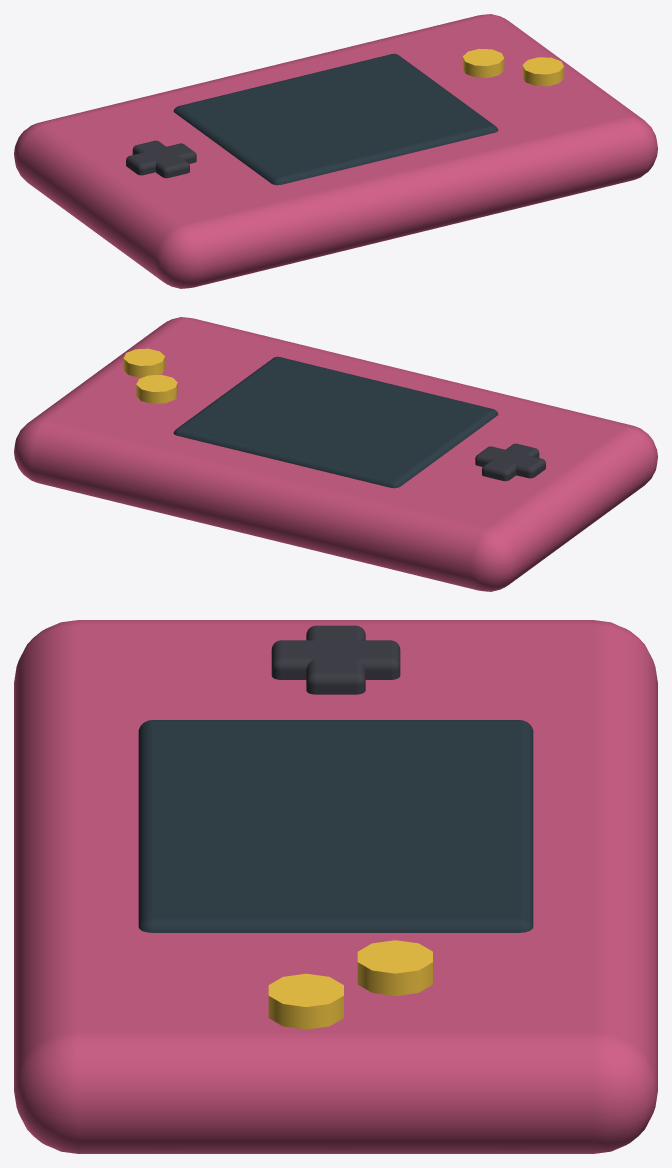
The model's file is item_ic_lost_handheld.glb.
3 renders of one model, top to bottom at view 1: azimuth 30°, elevation 25°; view 2: azimuth 150°, elevation 25°; view 3: azimuth 270°, elevation 25°, orthographic. The views are drawn at different scales.
Visible parts, largest first — view 1: item_ic_lost_handheld_main, item_ic_lost_handheld_gloss; view 2: item_ic_lost_handheld_main, item_ic_lost_handheld_gloss; view 3: item_ic_lost_handheld_main, item_ic_lost_handheld_gloss.
Part boxes in pixels (x1,y1,x2,y2): item_ic_lost_handheld_main: (14,14,657,288); item_ic_lost_handheld_gloss: (126,48,564,185); item_ic_lost_handheld_main: (14,317,657,591); item_ic_lost_handheld_gloss: (123,348,545,488); item_ic_lost_handheld_main: (14,620,657,1153); item_ic_lost_handheld_gloss: (138,625,533,1029).
Bounding box in the file's own units: 0.22 × 0.031 × 0.13.
